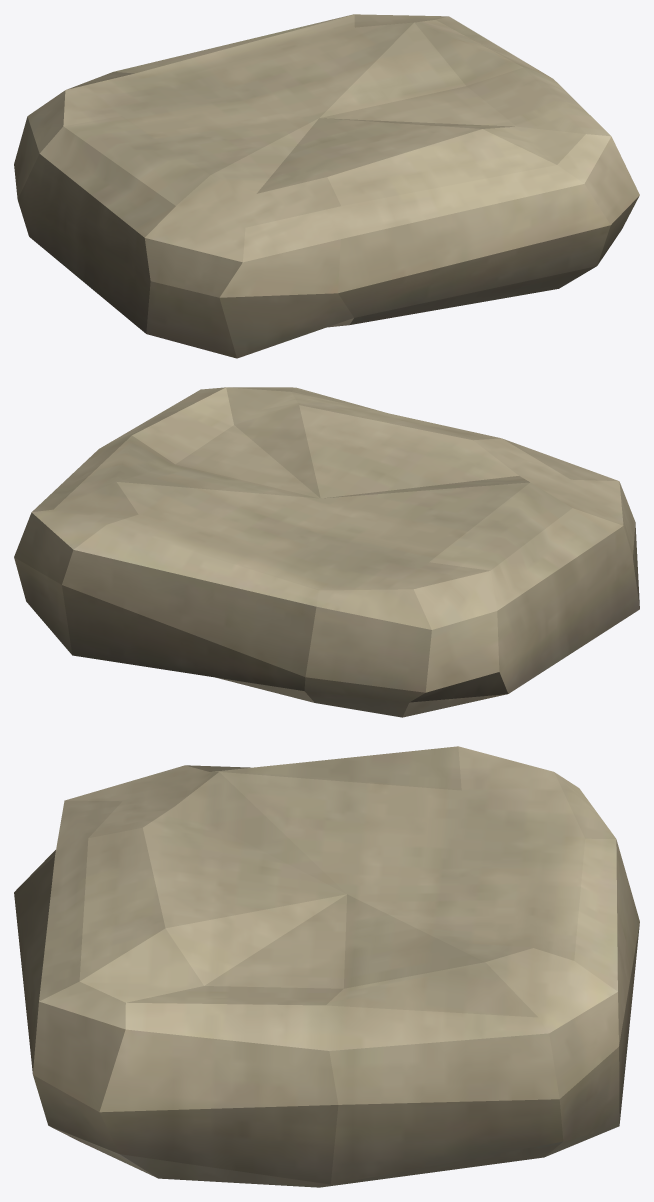
The model's file is lane_stone.glb.
The picture shows the model from 3 angles, top to bottom: view 1: azimuth 30°, elevation 25°; view 2: azimuth 150°, elevation 25°; view 3: azimuth 270°, elevation 25°; orthographic projection. The views are drawn at different scales.
Visible parts, largest first — view 1: LaneStone; view 2: LaneStone; view 3: LaneStone.
Boxes of the visible parts, x1,y1,x2,y2 form: LaneStone: (14,14,639,358); LaneStone: (14,387,639,717); LaneStone: (14,746,639,1187).
Size of the model in its own units: 0.5192 by 0.1571 by 0.4505.
Materials: 1 (1 with a texture image).
